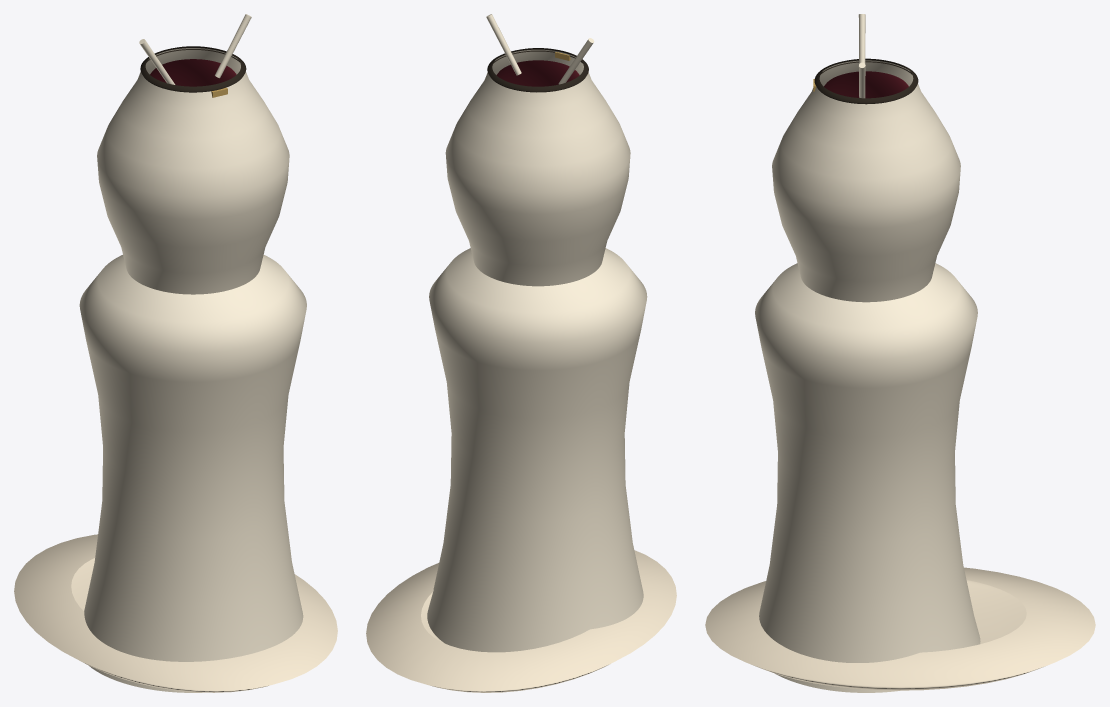
Rendered from garment.glb.
3 views of the same model, side by side, from view 1: azimuth 30°, elevation 25°; view 2: azimuth 150°, elevation 25°; view 3: azimuth 270°, elevation 25° (orthographic). The views are drawn at different scales.
Visible parts, largest first — view 1: body-skirt, body, body-train, lining, collar; view 2: body-skirt, body, body-train, lining, collar; view 3: body-skirt, body, body-train, lining, collar.
Part boxes in pixels (<box>): body-skirt: <box>79,255,306,692</box>; body: <box>97,48,289,294</box>; body-train: <box>14,534,337,692</box>; lining: <box>150,59,236,86</box>; collar: <box>140,46,246,92</box>; body-skirt: <box>427,248,647,652</box>; body: <box>445,49,630,286</box>; body-train: <box>366,550,676,692</box>; lining: <box>496,60,579,86</box>; collar: <box>487,48,588,92</box>; body-skirt: <box>755,263,980,692</box>; body: <box>772,60,960,302</box>; body-train: <box>705,567,1095,690</box>; lining: <box>824,71,908,98</box>; collar: <box>814,58,918,104</box>.
Size of the model in its own units: 0.68 by 1.57 by 0.918.
